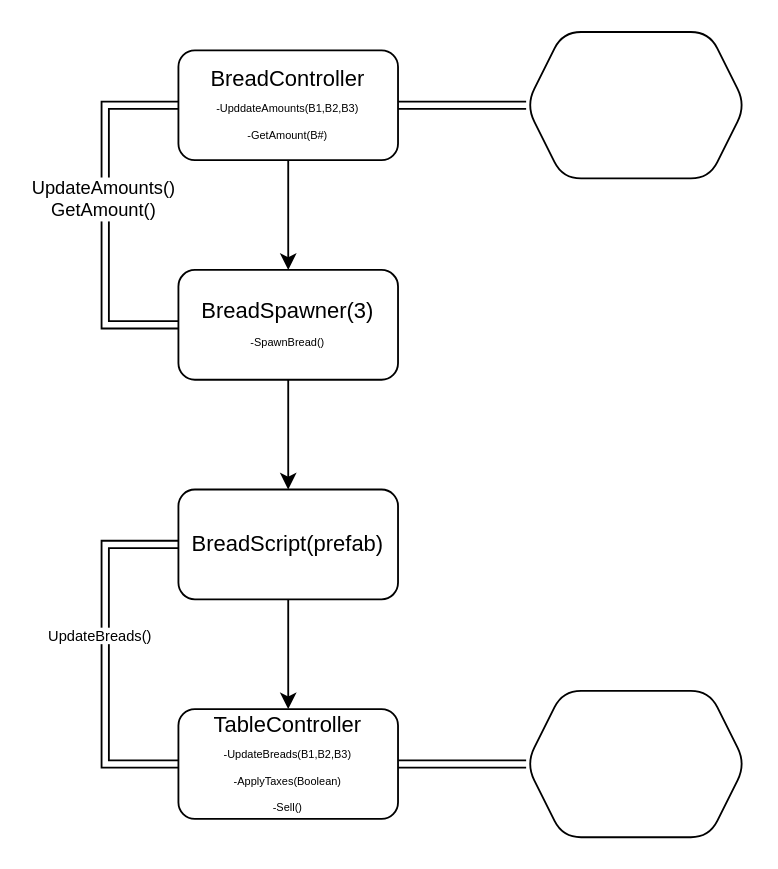
The diagram is 778 pixels wide and 869 high, and some of its shapes have lost their labels. The box of each missing label's shape, as (x1, y1, x2, y2) in pixels:
- breadsAmount [B1,B2,B3]: (524, 30, 746, 178)
- breadsInTable [B1,B2,B3]: (524, 689, 746, 837)
